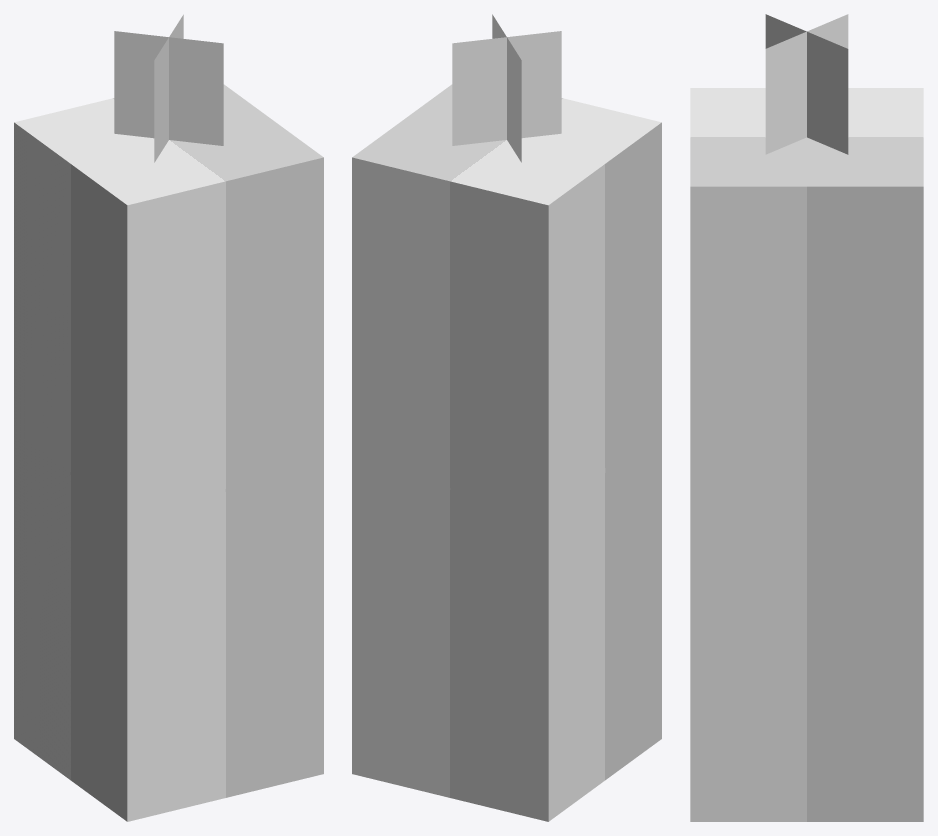
File: block_template_candle.gltf
3 views of the same model, side by side, from view 1: azimuth 30°, elevation 25°; view 2: azimuth 150°, elevation 25°; view 3: azimuth 270°, elevation 25° (orthographic). The views are drawn at different scales.
Parts seen in each view (by area): view 1: cube (×3); view 2: cube (×3); view 3: cube (×3).
Part boxes in pixels (x1,y1,x2,y2): cube (×3): (14,14,323,821); cube (×3): (352,14,661,821); cube (×3): (690,14,923,821).
Bounding box in the file's own units: 0.125 × 0.4375 × 0.125.
Materials: 1 (1 with a texture image).
